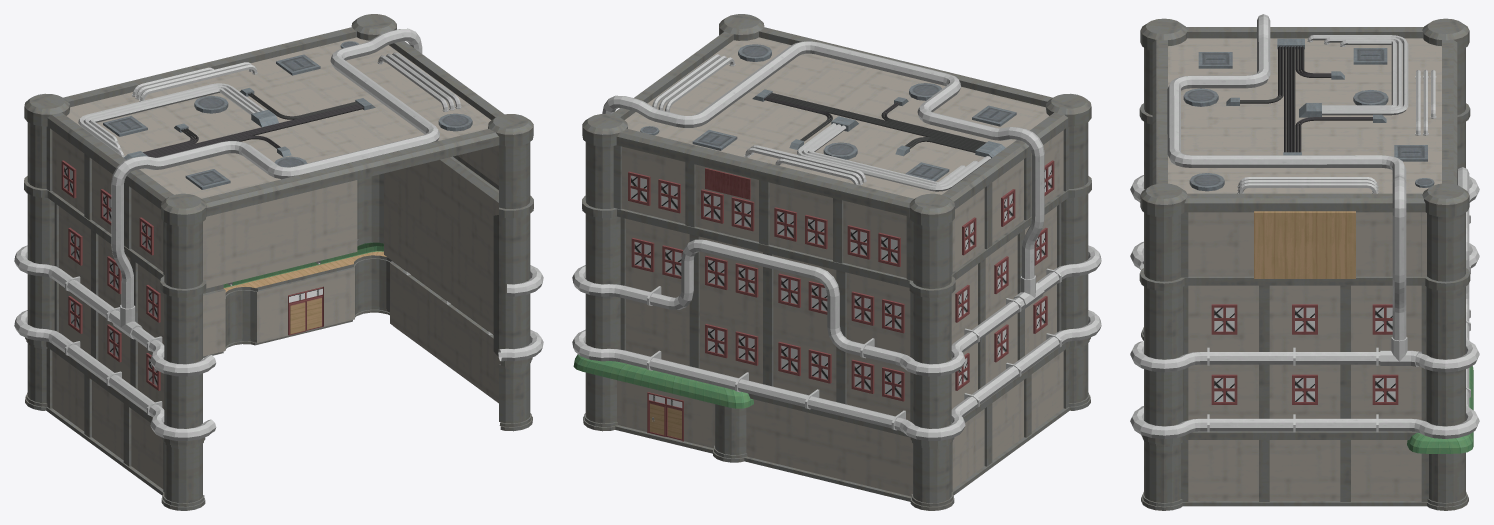
File: REDUCTION_SM_ENV_KNVLLG_CommonBuilding_F_1.fbx
The picture shows the model from 3 angles, left to right: view 1: azimuth 30°, elevation 25°; view 2: azimuth 150°, elevation 25°; view 3: azimuth 270°, elevation 25°; orthographic projection. The views are drawn at different scales.
Visible parts, largest first — view 1: REDUCTION_SM_ENV_KNVLLG_CommonBuilding_F_1.mo; view 2: REDUCTION_SM_ENV_KNVLLG_CommonBuilding_F_1.mo; view 3: REDUCTION_SM_ENV_KNVLLG_CommonBuilding_F_1.mo.
Boxes of the visible parts, x1,y1,x2,y2 form: REDUCTION_SM_ENV_KNVLLG_CommonBuilding_F_1.mo: [14, 14, 543, 510]; REDUCTION_SM_ENV_KNVLLG_CommonBuilding_F_1.mo: [572, 14, 1101, 510]; REDUCTION_SM_ENV_KNVLLG_CommonBuilding_F_1.mo: [1130, 14, 1479, 510].
Bounding box in the file's own units: 6935 × 5316 × 5288.
